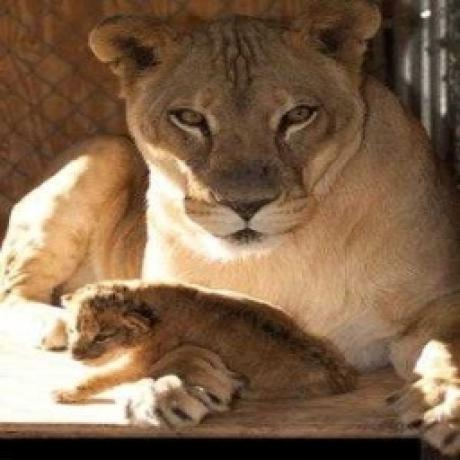Lion: (0, 0, 460, 460), (38, 277, 362, 407)
